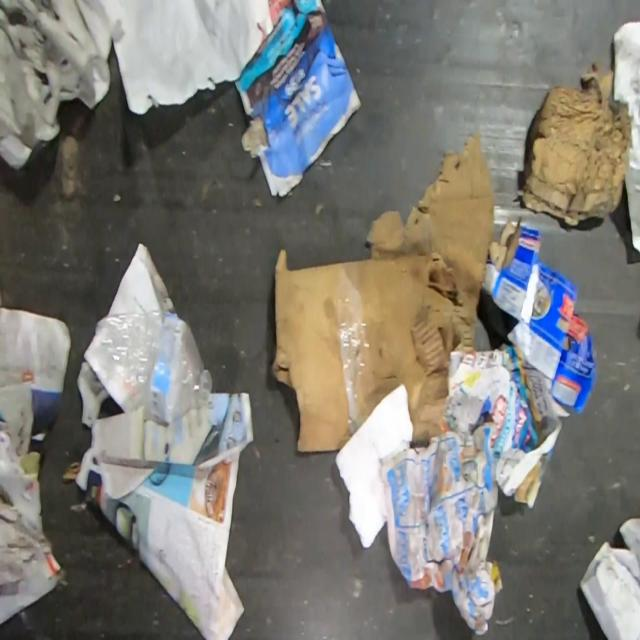cardboard: (270, 131, 496, 454), (481, 219, 597, 416), (522, 57, 633, 226)
rigid_plastic: (83, 309, 214, 427)
